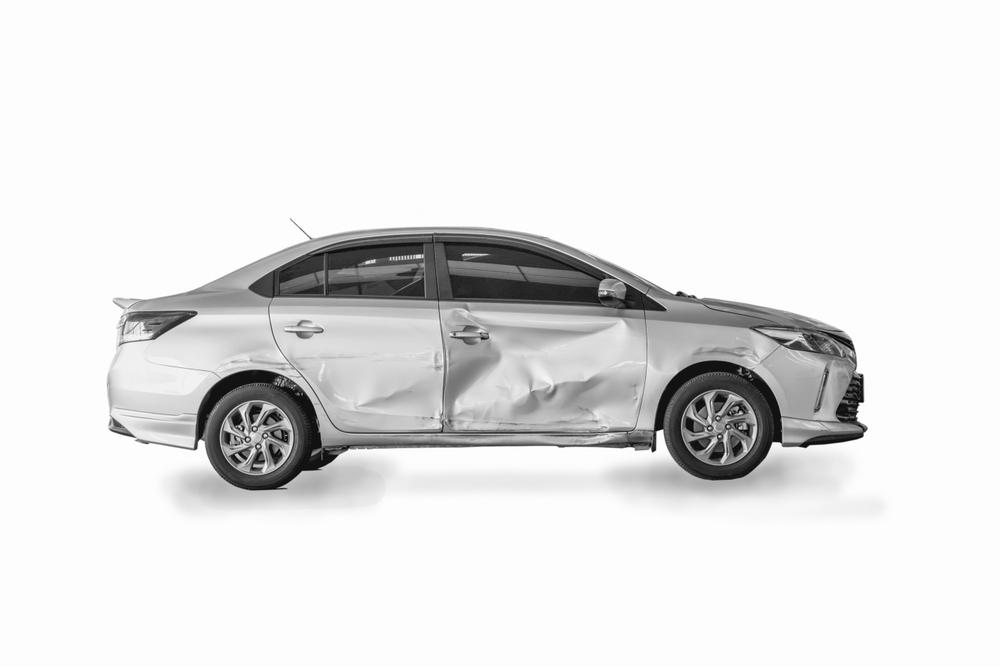dent: (449, 310, 642, 436), (318, 349, 438, 427)
